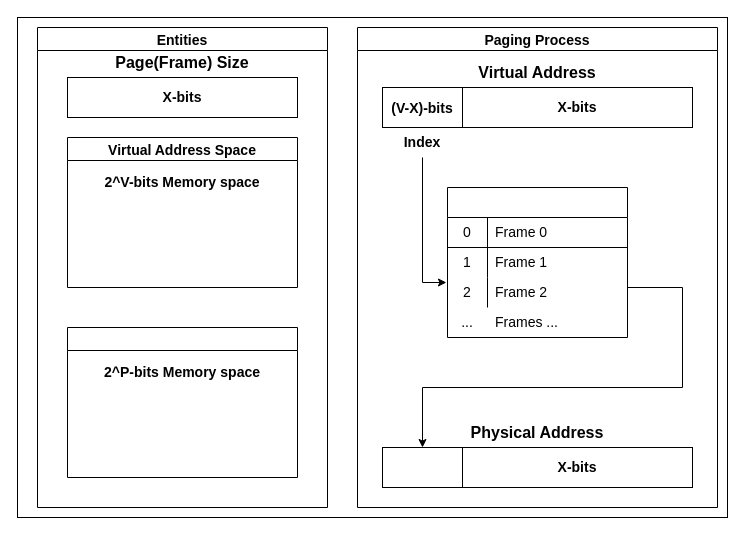
Image size: 745x535. Some labels were removed from this diagram. The box of each missing label's shape, as (x1, y1, x2, y2) in pixels:
(P-X)-bits: (382, 446, 462, 488)
Page Table: (446, 186, 628, 338)
Physical Address Space: (66, 326, 298, 478)
